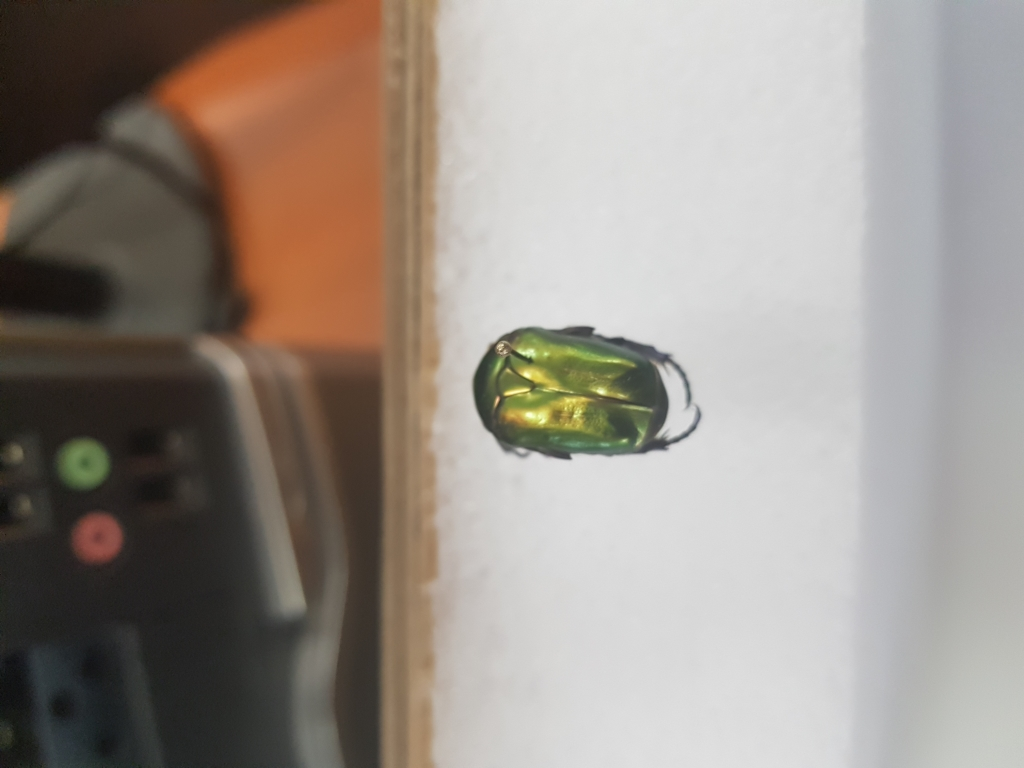Protaetia_cuprea_ignicollis: (470, 323, 706, 466)
